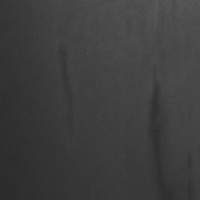inclusion: (143, 69, 170, 195), (51, 40, 78, 118)
